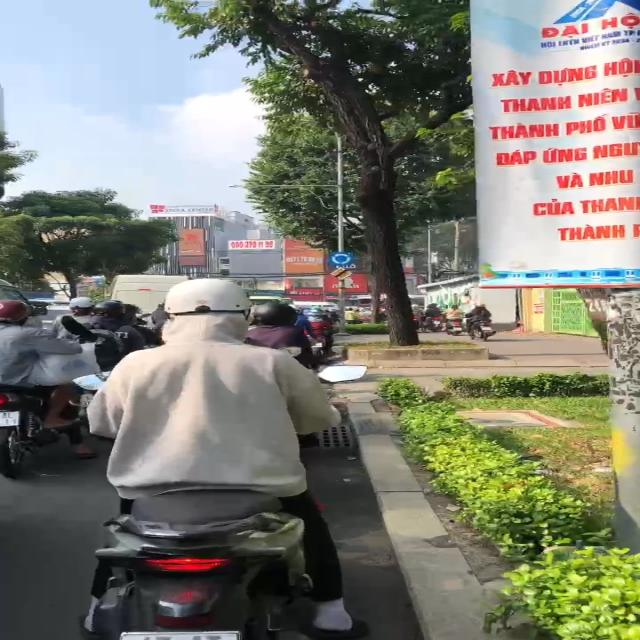Bien bao noi giao nhau chay theo vong xuyen: (326, 249, 357, 267)
